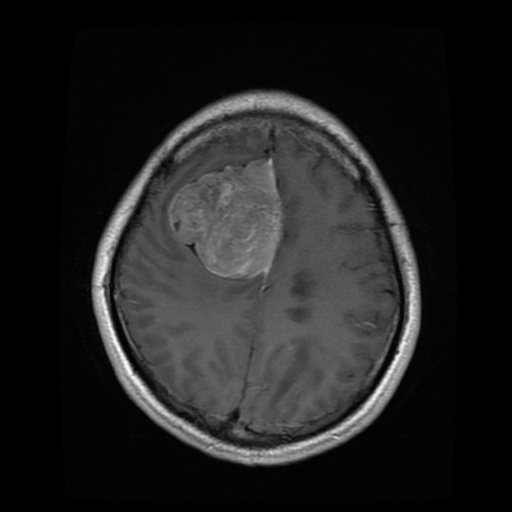meningioma: (166, 157, 284, 278)
